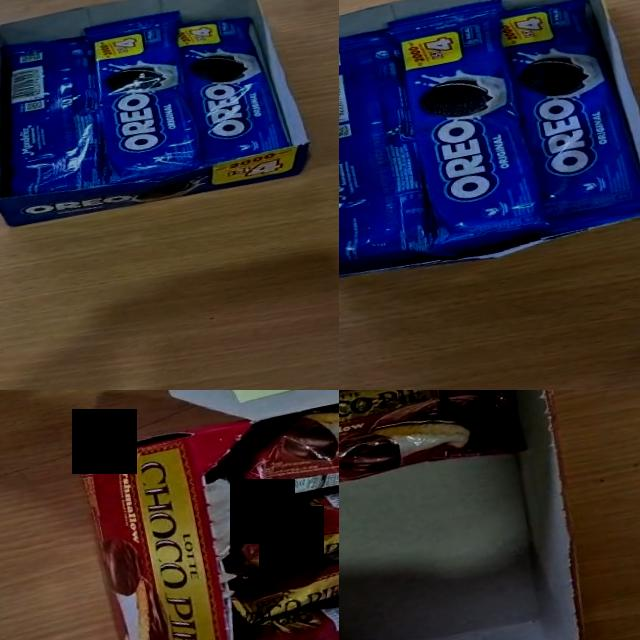Chocopie: (339, 390, 528, 504), (209, 390, 339, 517), (213, 467, 339, 579), (223, 530, 339, 628), (229, 585, 339, 640)
Oreo: (386, 0, 553, 260), (497, 0, 640, 237), (339, 25, 443, 284), (86, 13, 198, 181), (178, 19, 288, 162), (3, 38, 99, 195)
